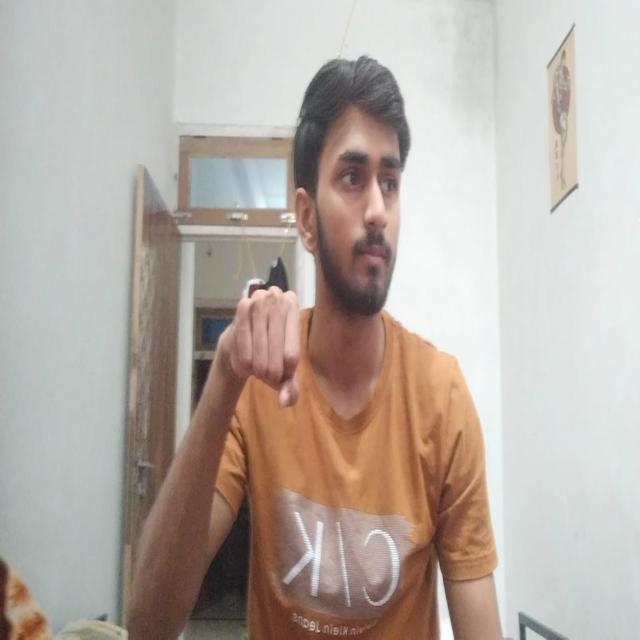yes: (182, 206, 317, 462)
